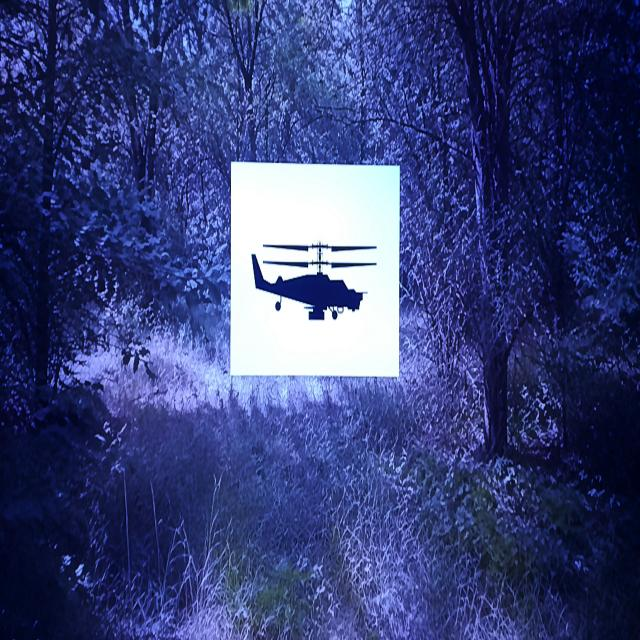Ka-52 Enemy: (252, 243, 376, 319)
